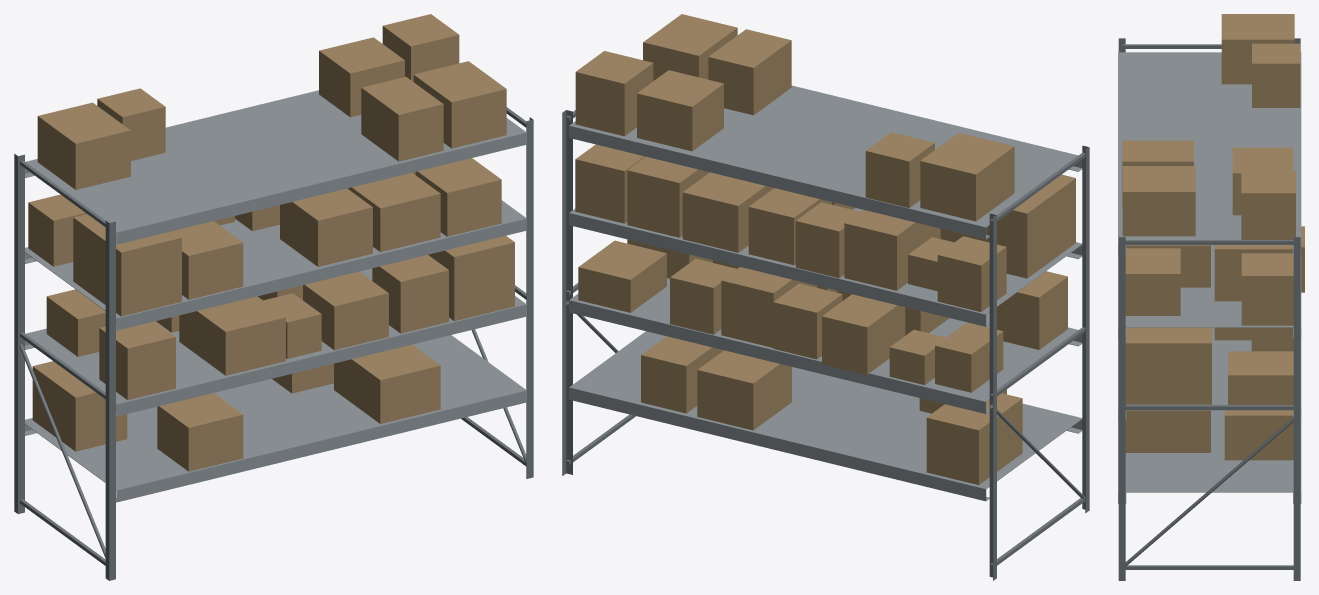
The model's file is storage-rack-boxes.glb.
The picture shows the model from 3 angles, left to right: view 1: azimuth 30°, elevation 25°; view 2: azimuth 150°, elevation 25°; view 3: azimuth 270°, elevation 25°; orthographic projection. The views are drawn at different scales.
Visible parts, largest first — view 1: storage_rack; view 2: storage_rack; view 3: storage_rack.
Part boxes in pixels (box(x1,y1,x2,y2)): storage_rack: box(14, 14, 533, 580); storage_rack: box(562, 14, 1089, 580); storage_rack: box(1118, 14, 1304, 580).
Bounding box in the file's own units: 3.1 × 2.78 × 1.23.
